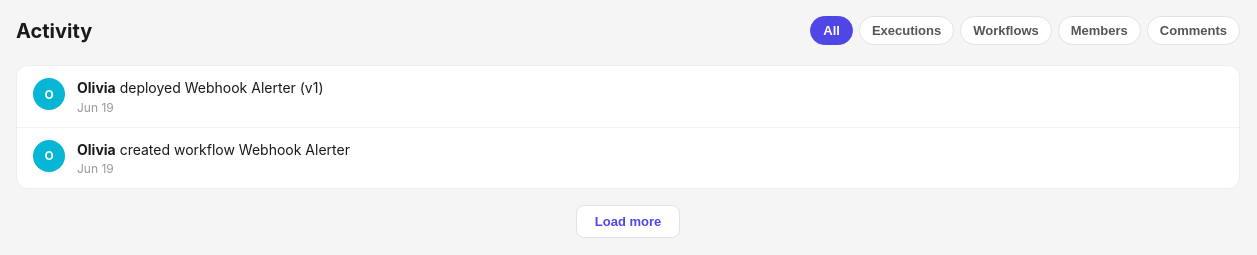
ActivityPage › appends the next page via "Load more" using the before cursor
Click the button "Load more" at (628, 222), box [576,205,680,238]
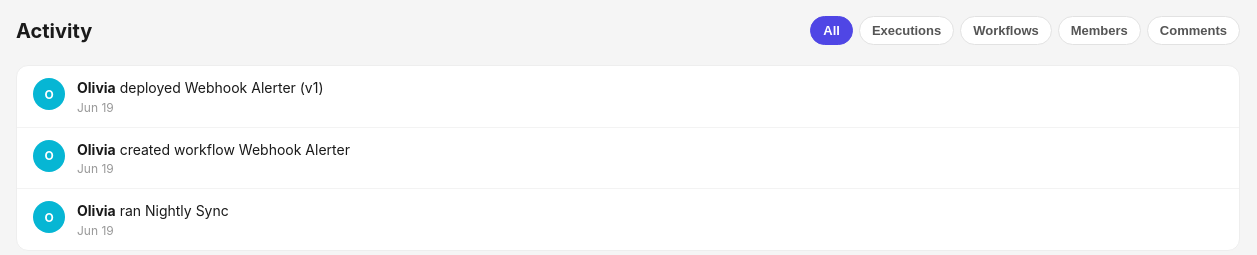
Check: the text "created workflow Webhook Alerter" is shown, box [120,141,350,158]
Check: the text "ran Nightly Sync" is shown, box [120,202,229,219]
